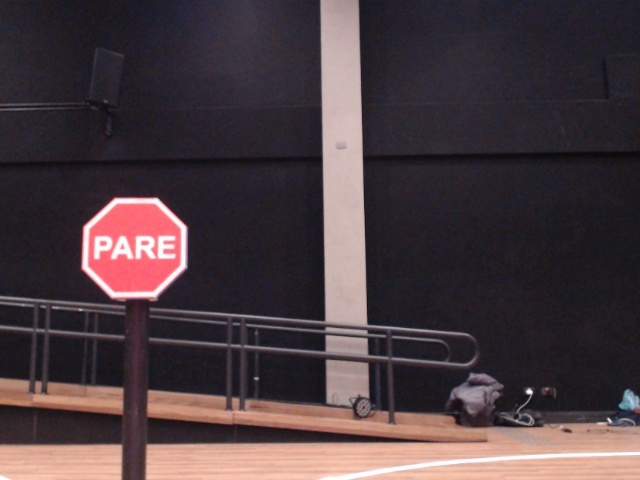SEMAFORO: (69, 183, 218, 320)
